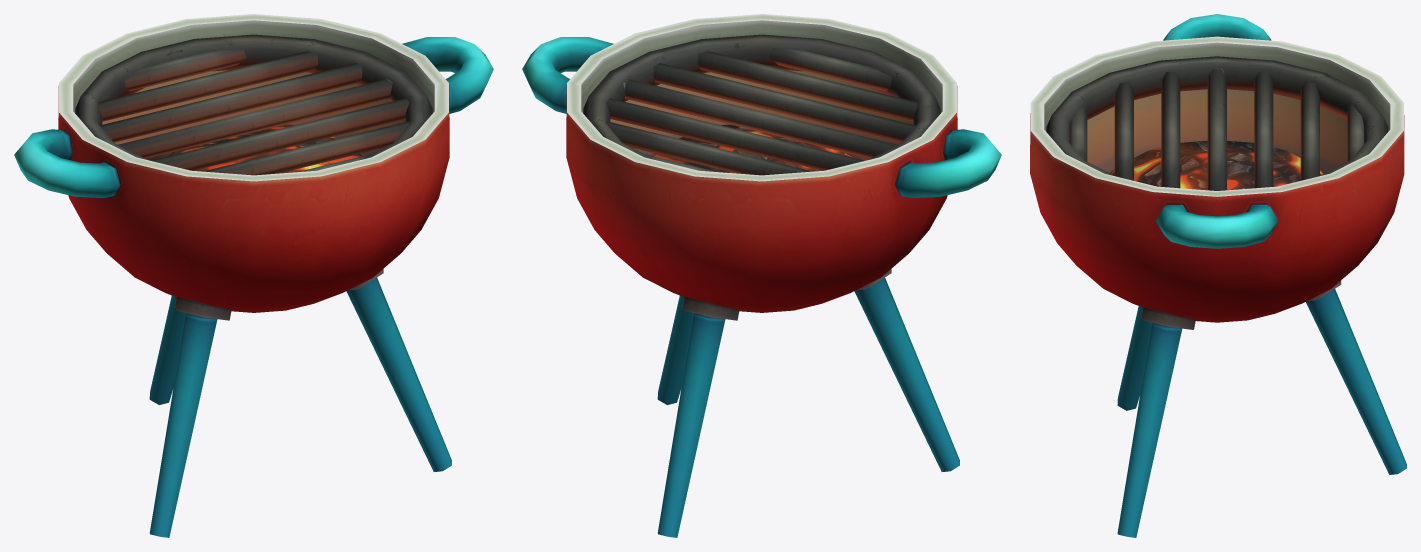
Rendered from SE_Grill_02.fbx.
3 renders of one model, left to right at view 1: azimuth 30°, elevation 25°; view 2: azimuth 150°, elevation 25°; view 3: azimuth 270°, elevation 25°, orthographic. The views are drawn at different scales.
Parts seen in each view (by area): view 1: SE_Grill_02; view 2: SE_Grill_02; view 3: SE_Grill_02.
Boxes of the visible parts, x1=… form: SE_Grill_02: x1=14, y1=14, x2=493, y2=537; SE_Grill_02: x1=522, y1=14, x2=1001, y2=537; SE_Grill_02: x1=1030, y1=14, x2=1406, y2=537.
Size of the model in its own units: 3.3 by 2.54 by 2.43.
